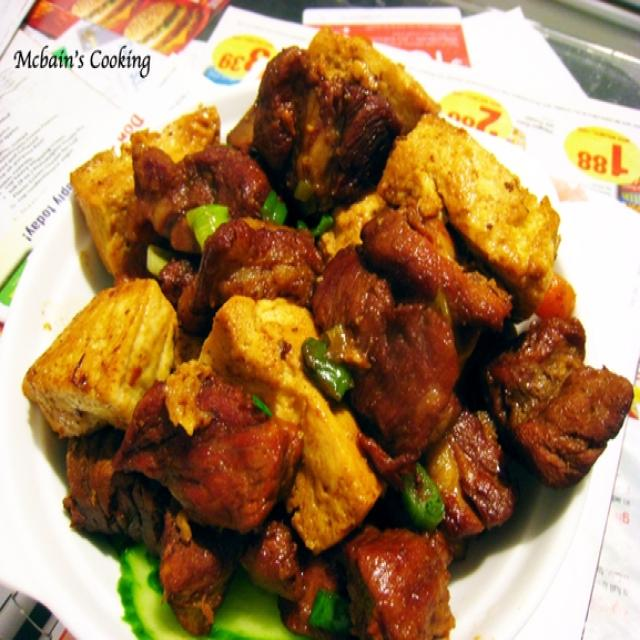豆腐料理: (15, 28, 619, 621)
